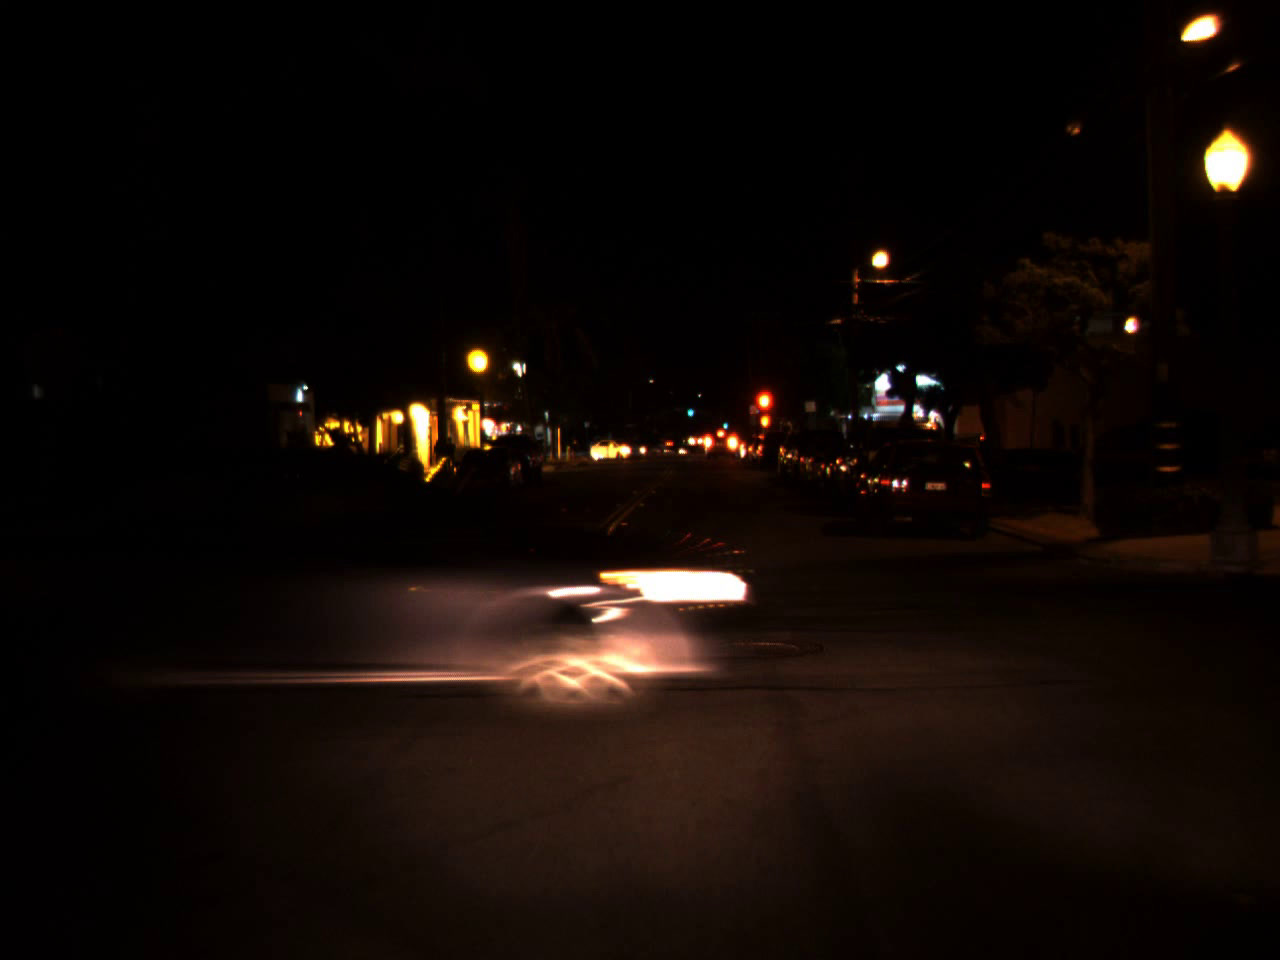go: (685, 401, 694, 419)
stop: (752, 387, 776, 435)
